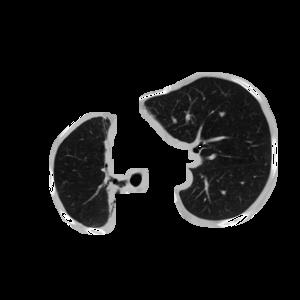PN: (218, 110, 226, 118)
